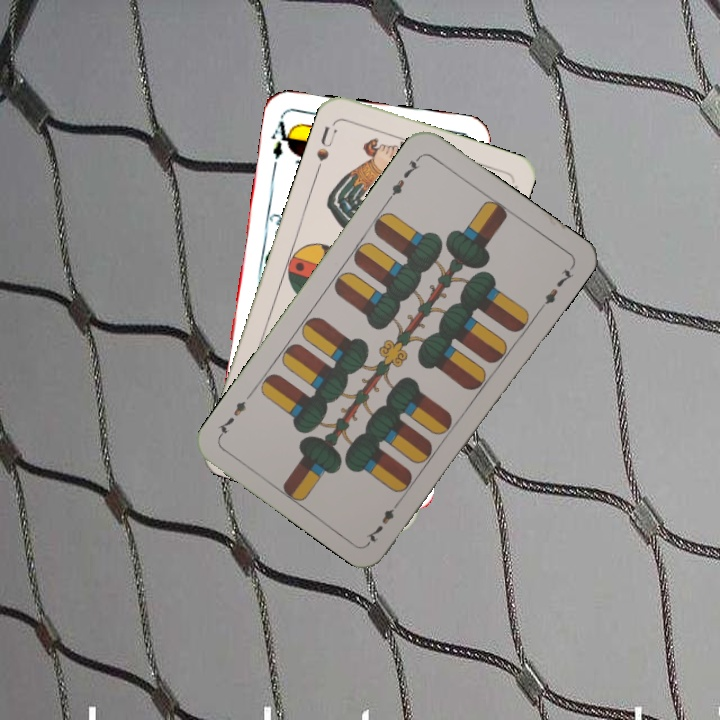E7: (362, 495, 403, 546), (384, 152, 424, 203)
EA: (268, 117, 296, 162)
SU: (312, 122, 340, 175)
